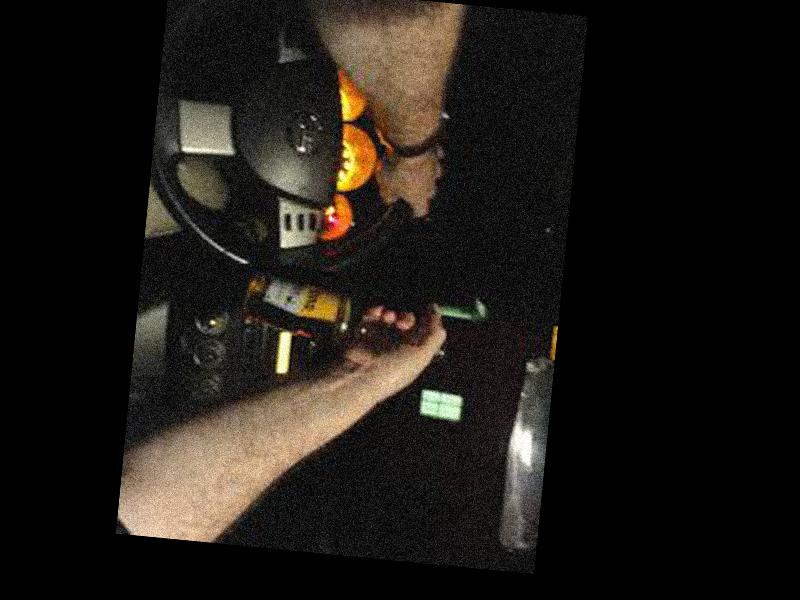Beer: (242, 264, 450, 363)
